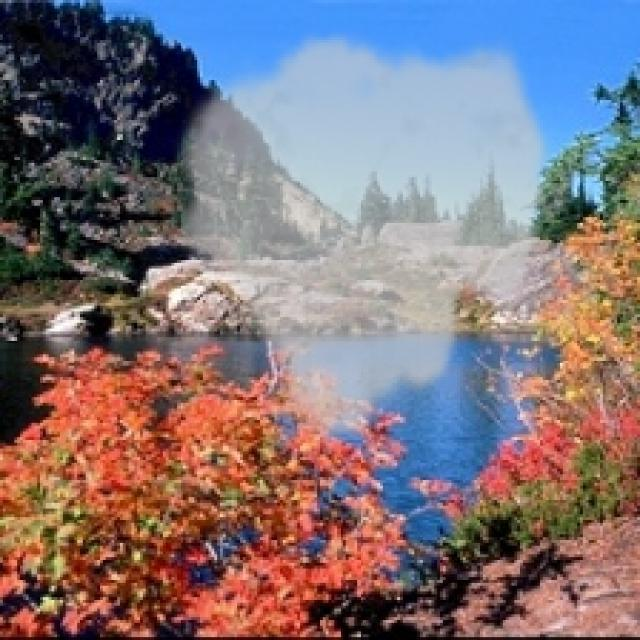Smoke: (166, 29, 554, 452)
